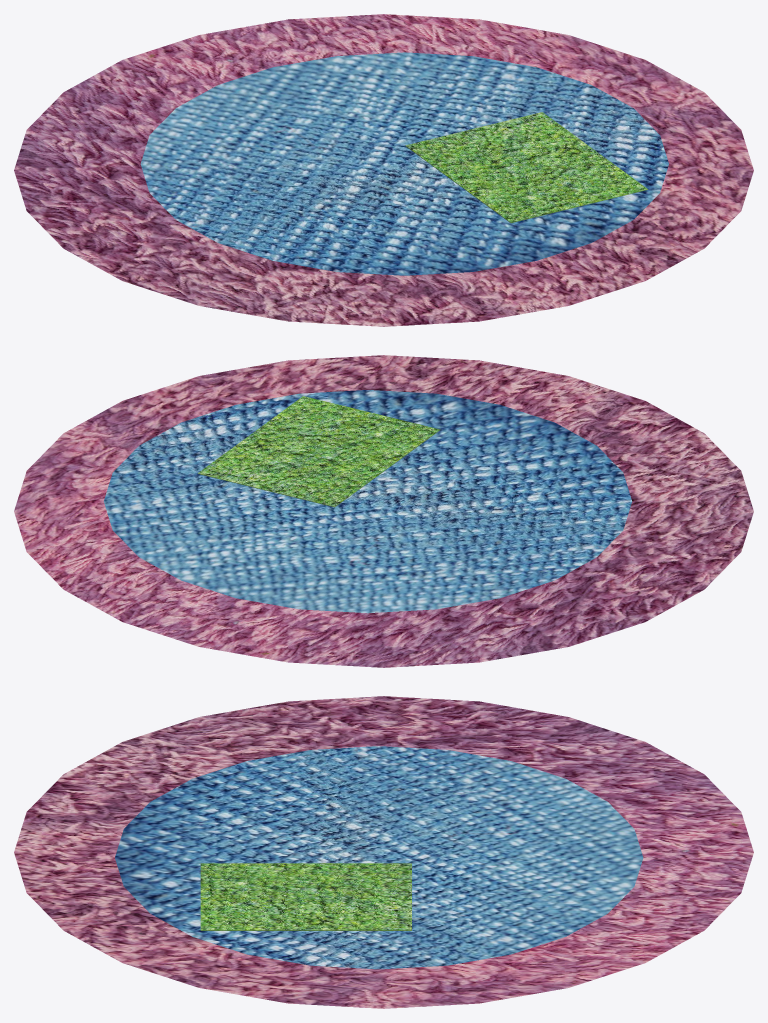
Rendered from AlfombraCompleta.obj.
3 renders of one model, top to bottom at view 1: azimuth 30°, elevation 25°; view 2: azimuth 150°, elevation 25°; view 3: azimuth 270°, elevation 25°, orthographic.
Parts seen in each view (by area): view 1: pDisc3, pDisc2, pCube1; view 2: pDisc3, pDisc2, pCube1; view 3: pDisc3, pDisc2, pCube1.
Part boxes in pixels (x1,y1,x2,y2): pDisc3: (14,14,753,326); pDisc2: (140,52,668,275); pCube1: (405,112,648,223); pDisc3: (14,355,753,667); pDisc2: (103,390,632,613); pCube1: (197,396,440,507); pDisc3: (14,696,753,1008); pDisc2: (115,746,643,969); pCube1: (200,863,411,930).
Size of the model in its own units: 14 by 0.13 by 14.
3 materials, 3 textured.
